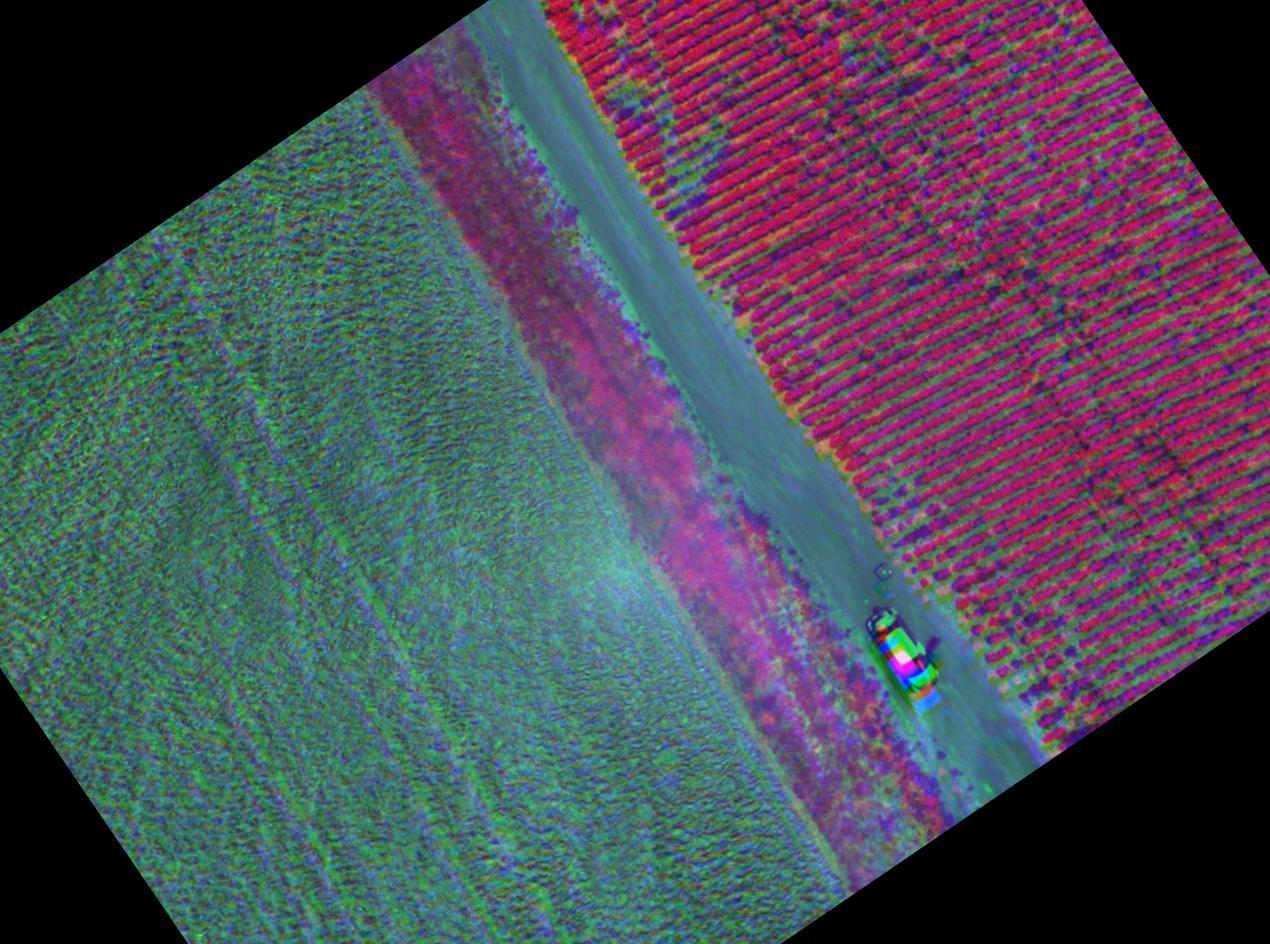dc: (1174, 542, 1257, 619), (657, 135, 727, 217), (607, 57, 670, 121), (924, 549, 974, 629), (988, 631, 1041, 695), (1022, 706, 1069, 753)
